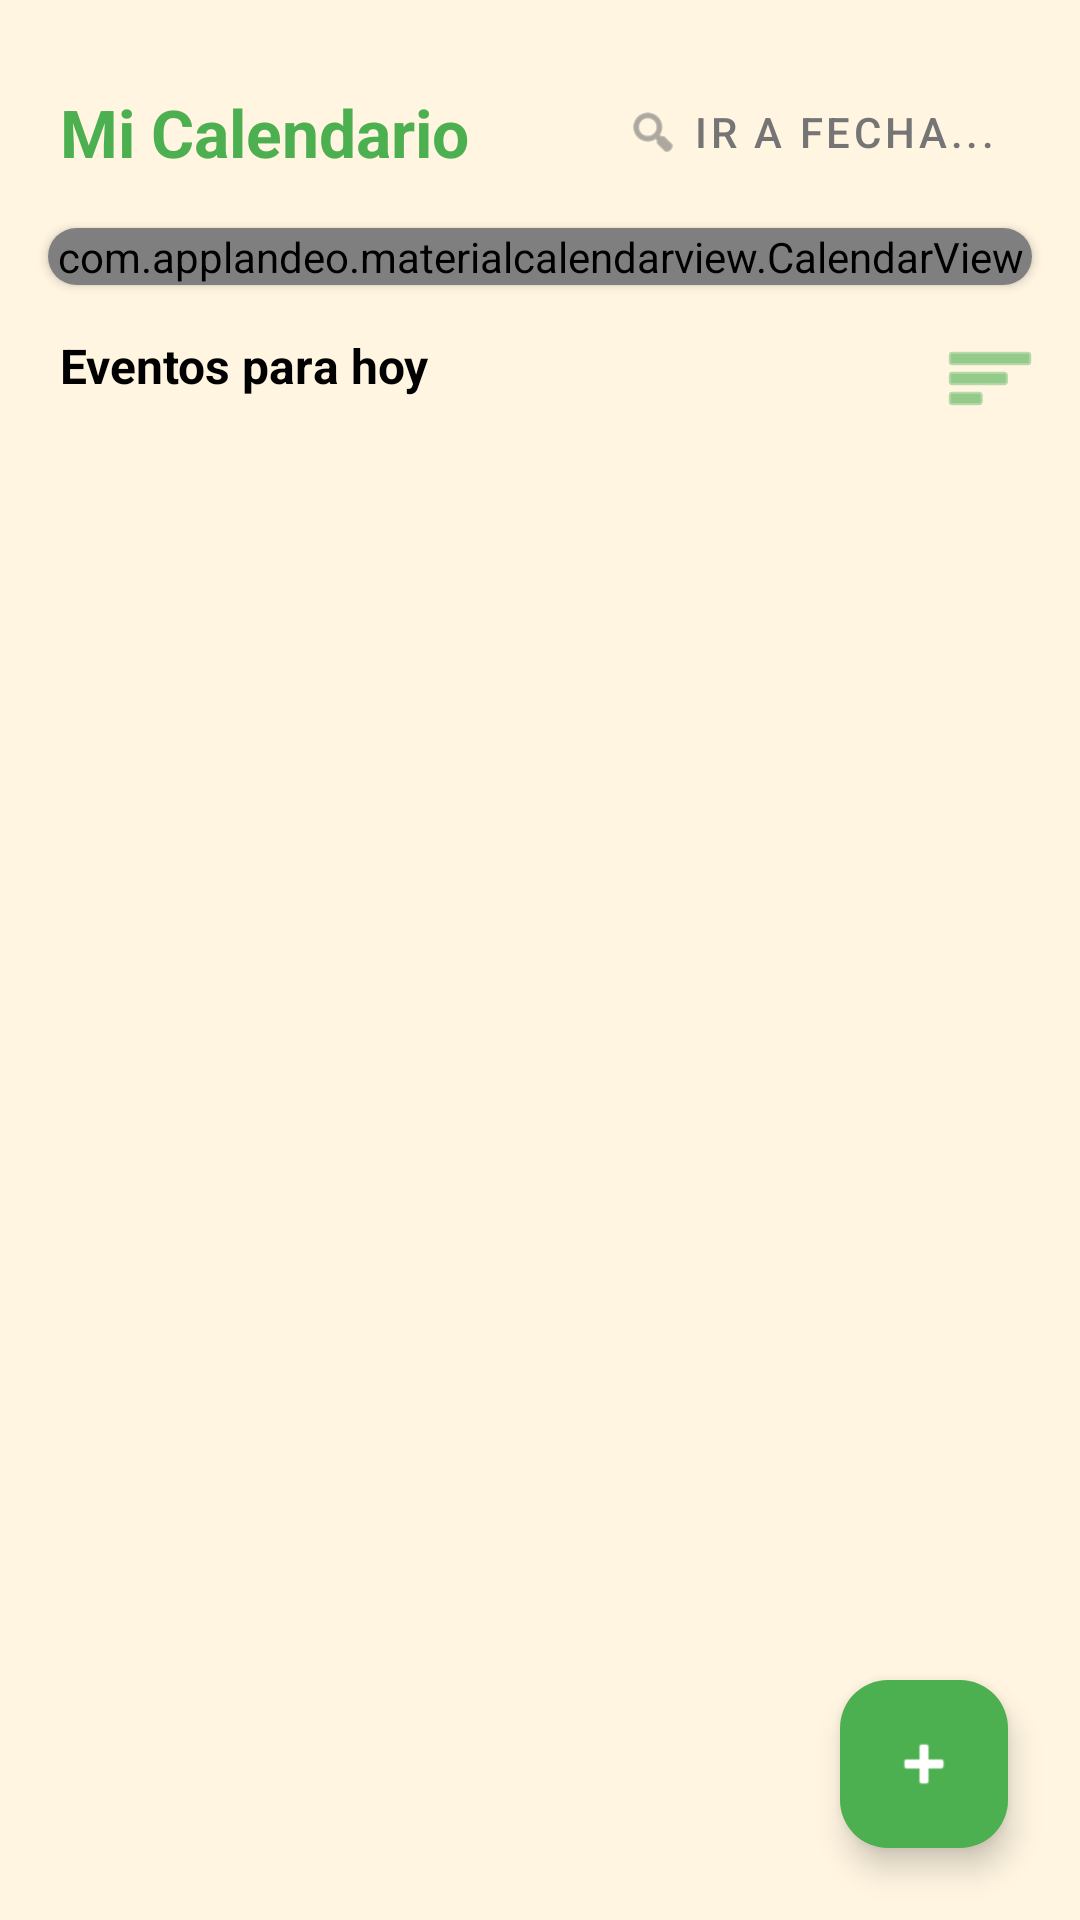

Screen size 1080 x 1920. Icon name, then its center in pixels as point (x, y):
add: point (924, 1764)
Filtrar eventos: point (990, 378)
